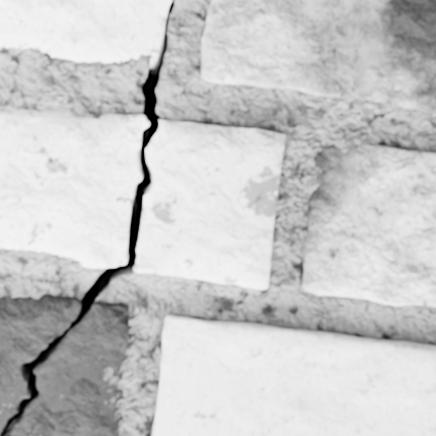brick: (152, 314, 435, 435), (200, 0, 435, 113), (301, 144, 435, 305), (0, 0, 171, 63)
broken_brick: (134, 119, 284, 287), (0, 106, 148, 266), (10, 301, 128, 435), (0, 293, 80, 432)
crack: (0, 0, 173, 435), (95, 116, 100, 123), (168, 121, 173, 126)
